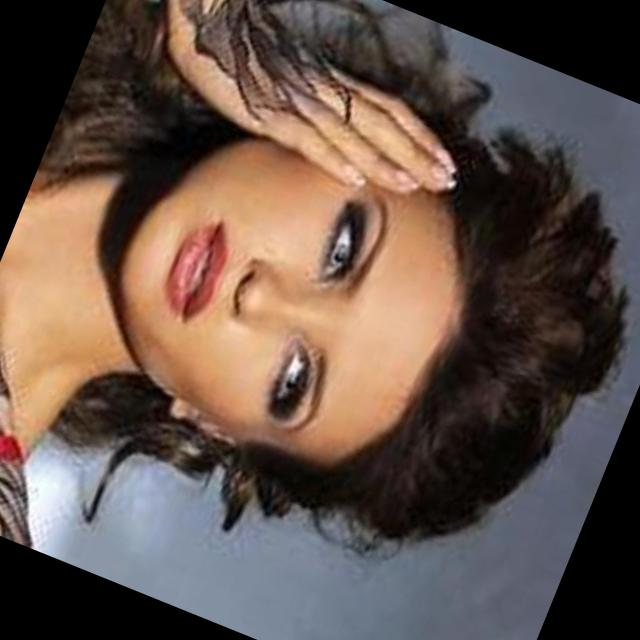bareface: (73, 80, 602, 547)
